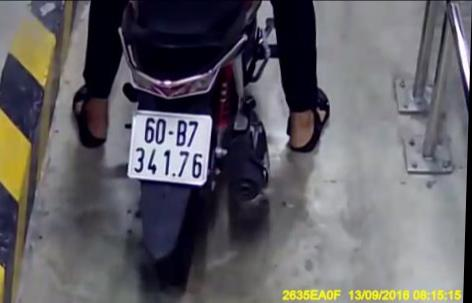LP: (128, 108, 214, 186)
